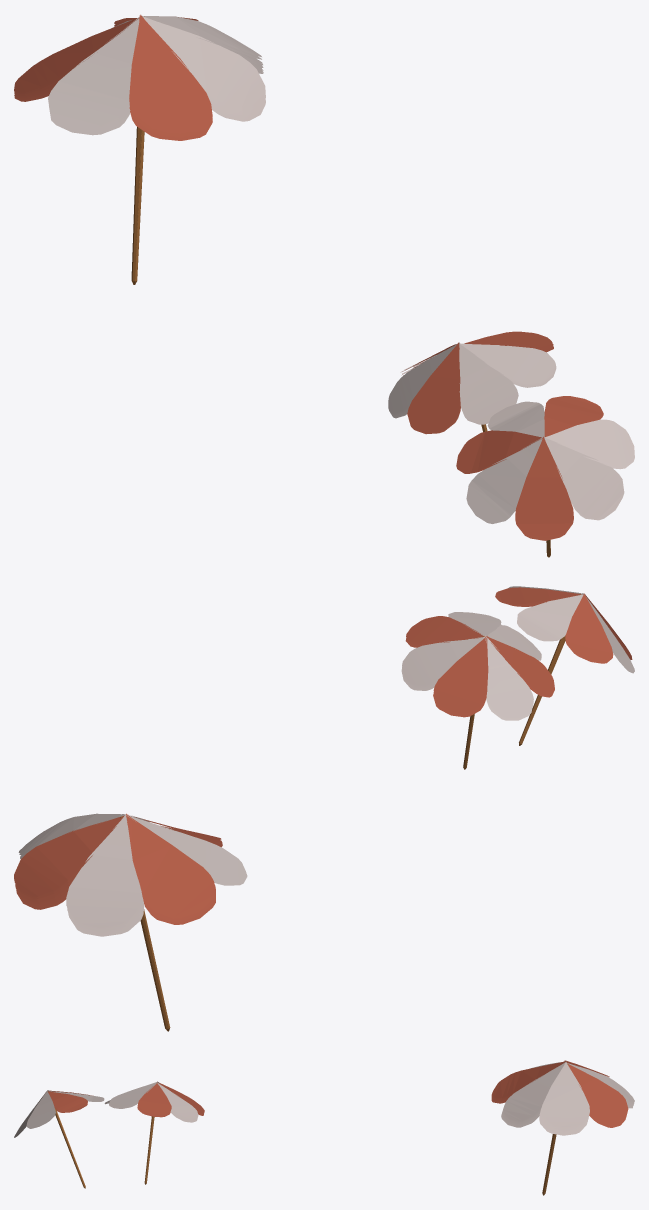
The model's file is Umbrella.fbx.
The picture shows the model from 3 angles, top to bottom: view 1: azimuth 30°, elevation 25°; view 2: azimuth 150°, elevation 25°; view 3: azimuth 270°, elevation 25°; orthographic projection. The views are drawn at different scales.
Visible parts, largest first — view 1: Umbrellas; view 2: Umbrellas; view 3: Umbrellas.
Boxes of the visible parts, bbox=[...] form: Umbrellas: bbox=[14, 14, 634, 557]; Umbrellas: bbox=[14, 586, 634, 1031]; Umbrellas: bbox=[14, 1060, 634, 1195].
Bounding box in the file's own units: 9.64 × 10.14 × 40.15.
